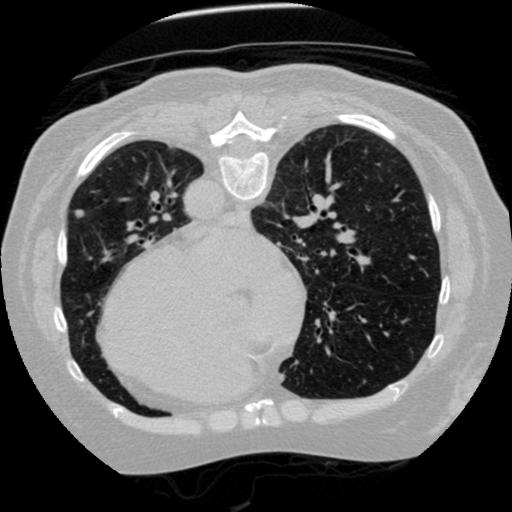nodule: (73, 207, 88, 222)
